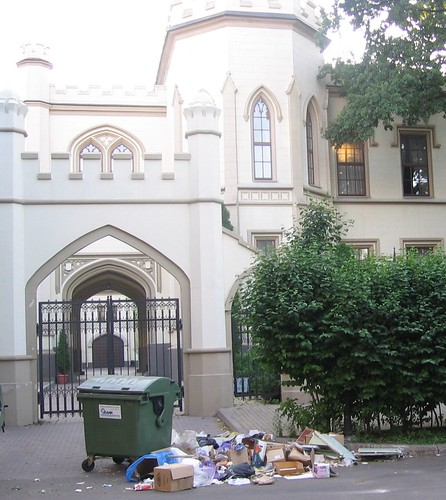building: (2, 61, 428, 412)
dumpster: (69, 367, 197, 483)
trash: (152, 426, 390, 486)
tree: (256, 239, 446, 437), (343, 1, 446, 142)
